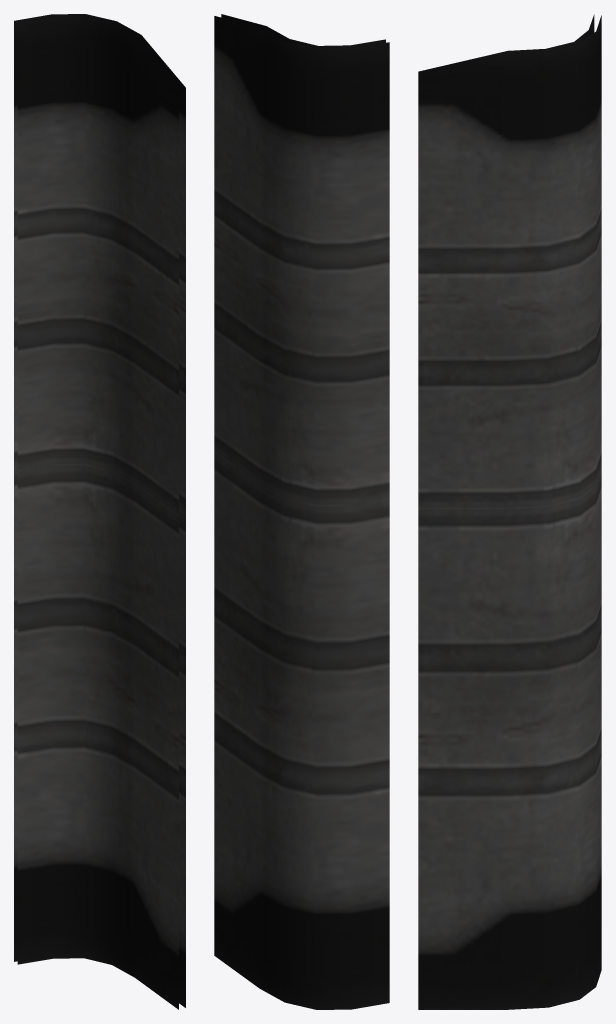
File: p6_metal_panel_railing_90l_lod2.glb
The picture shows the model from 3 angles, left to right: view 1: azimuth 30°, elevation 25°; view 2: azimuth 210°, elevation 25°; view 3: azimuth 270°, elevation 25°; orthographic projection. The views are drawn at different scales.
Parts seen in each view (by area): view 1: surf0; view 2: surf0; view 3: surf0.
Boxes of the visible parts, left/top/right/bottom form: surf0: left=14, top=14, right=185, bottom=1009; surf0: left=214, top=14, right=389, bottom=1009; surf0: left=418, top=14, right=601, bottom=1009.
Size of the model in its own units: 3.17 by 35 by 6.1.
